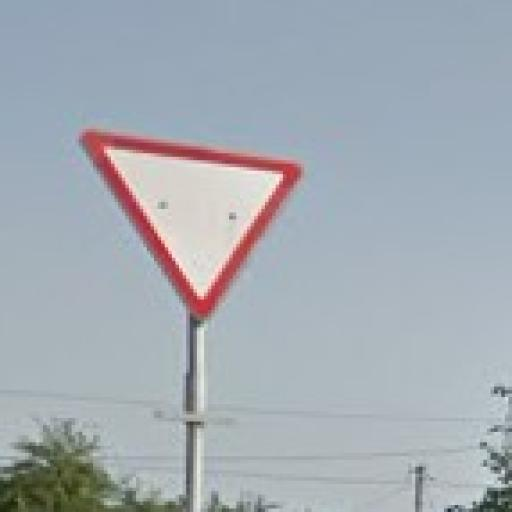traffic_sign: (80, 127, 302, 322)
